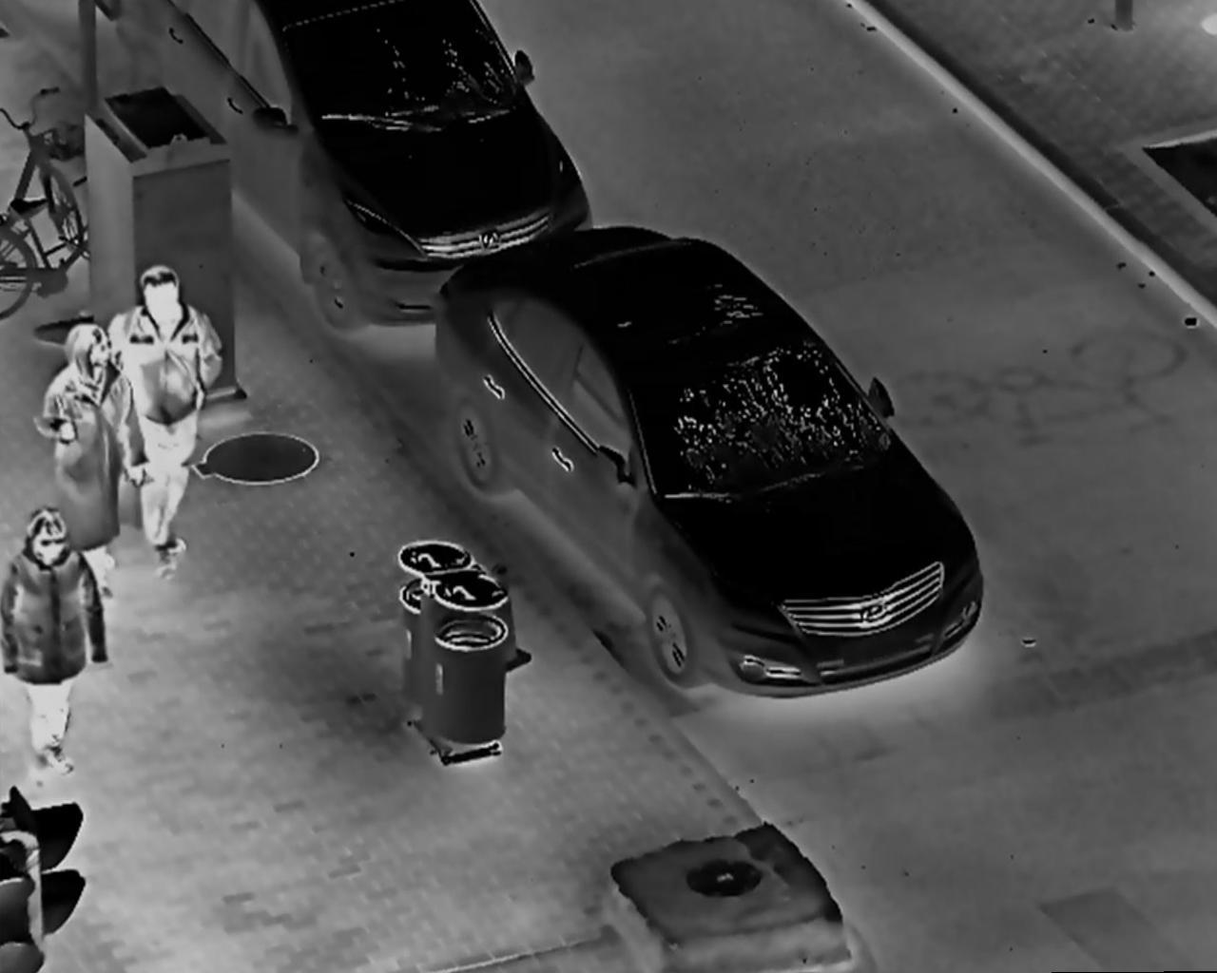person: (108, 261, 227, 587), (41, 313, 148, 601)
